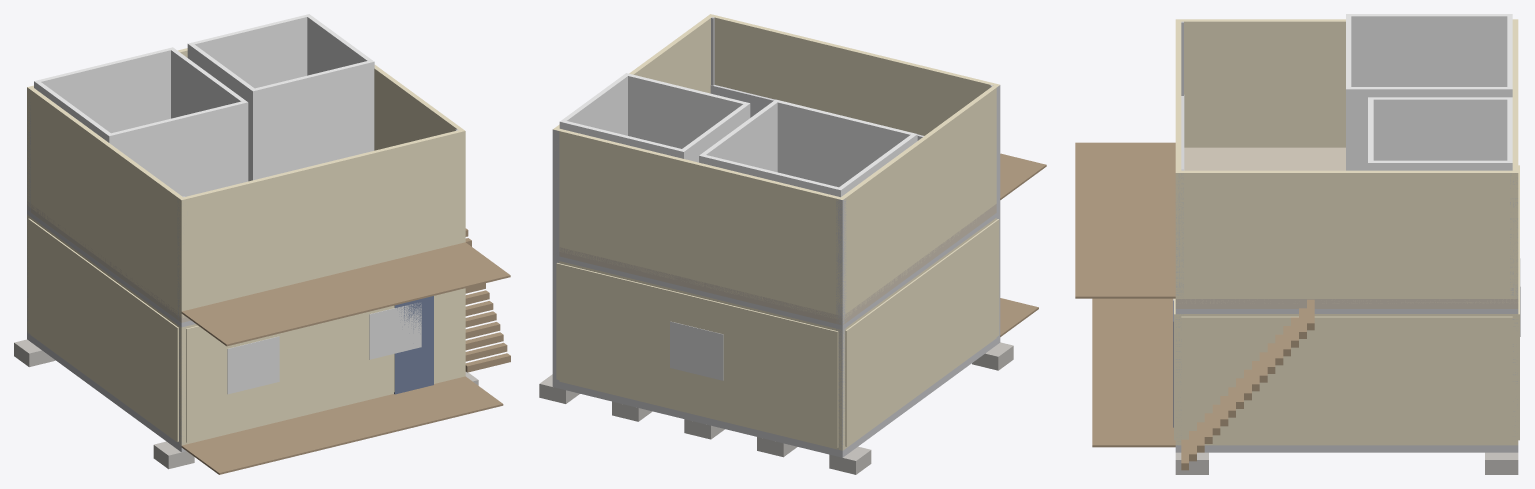
File: Duplex-20-Base-RiceYellow-LOD1.glb
3 renders of one model, left to right at view 1: azimuth 30°, elevation 25°; view 2: azimuth 150°, elevation 25°; view 3: azimuth 270°, elevation 25°, orthographic. The views are drawn at different scales.
Visible parts, largest first — view 1: ExteriorShellUpper, ExteriorPanelsStandard, StudyUpper, BedroomUpper, BalconyUpper, BalconyGround, WindowsStandard, StaircaseExternal, EntryDoor, ExteriorShell, FoundationBlocks, BaseFrame (+3 smaller); view 2: ExteriorShellUpper, ExteriorPanelsStandard, BedroomUpper, StudyUpper, VerticalStructure, FloorUpper, FoundationBlocks, BaseFrame, ExteriorShell, WindowsStandard, TopFrame, BalconyUpper (+2 smaller); view 3: ExteriorShellUpper, ExteriorPanelsStandard, BalconyUpper, BedroomUpper, BalconyGround, StudyUpper, FloorUpper, StaircaseExternal, ExteriorShell, BaseFrame, TopFrame, FoundationBlocks (+1 smaller).
Part boxes in pixels (left/top/right/bottom): ExteriorShellUpper: left=27, top=48, right=465, bottom=317; ExteriorPanelsStandard: left=28, top=218, right=461, bottom=442; StudyUpper: left=187, top=14, right=374, bottom=181; BedroomUpper: left=34, top=47, right=248, bottom=196; BalconyUpper: left=181, top=242, right=510, bottom=346; BalconyGround: left=181, top=376, right=503, bottom=474; WindowsStandard: left=227, top=303, right=421, bottom=394; StaircaseExternal: left=465, top=228, right=510, bottom=372; EntryDoor: left=394, top=296, right=433, bottom=394; ExteriorShell: left=27, top=214, right=465, bottom=445; FoundationBlocks: left=14, top=339, right=478, bottom=469; BaseFrame: left=27, top=333, right=186, bottom=452; ExteriorShellUpper: left=553, top=14, right=999, bottom=320; ExteriorPanelsStandard: left=556, top=219, right=999, bottom=447; BedroomUpper: left=699, top=99, right=917, bottom=197; StudyUpper: left=559, top=73, right=750, bottom=162; VerticalStructure: left=552, top=17, right=1000, bottom=449; FloorUpper: left=553, top=204, right=996, bottom=325; FoundationBlocks: left=539, top=342, right=1013, bottom=474; BaseFrame: left=552, top=336, right=1000, bottom=457; ExteriorShell: left=553, top=218, right=996, bottom=450; WindowsStandard: left=670, top=321, right=723, bottom=380; TopFrame: left=559, top=213, right=996, bottom=329; BalconyUpper: left=1000, top=153, right=1046, bottom=199; ExteriorShellUpper: left=1175, top=19, right=1518, bottom=303; ExteriorPanelsStandard: left=1174, top=165, right=1519, bottom=443; BalconyUpper: left=1075, top=142, right=1175, bottom=298; BedroomUpper: left=1346, top=14, right=1512, bottom=170; BalconyGround: left=1092, top=298, right=1175, bottom=447; StudyUpper: left=1368, top=97, right=1512, bottom=170; FloorUpper: left=1175, top=147, right=1518, bottom=308; StaircaseExternal: left=1181, top=299, right=1314, bottom=470; ExteriorShell: left=1175, top=314, right=1518, bottom=445; BaseFrame: left=1175, top=445, right=1518, bottom=452; TopFrame: left=1175, top=309, right=1518, bottom=313; FoundationBlocks: left=1175, top=452, right=1518, bottom=474.
Bounding box in the file's own units: 7.94 × 6 × 8.
